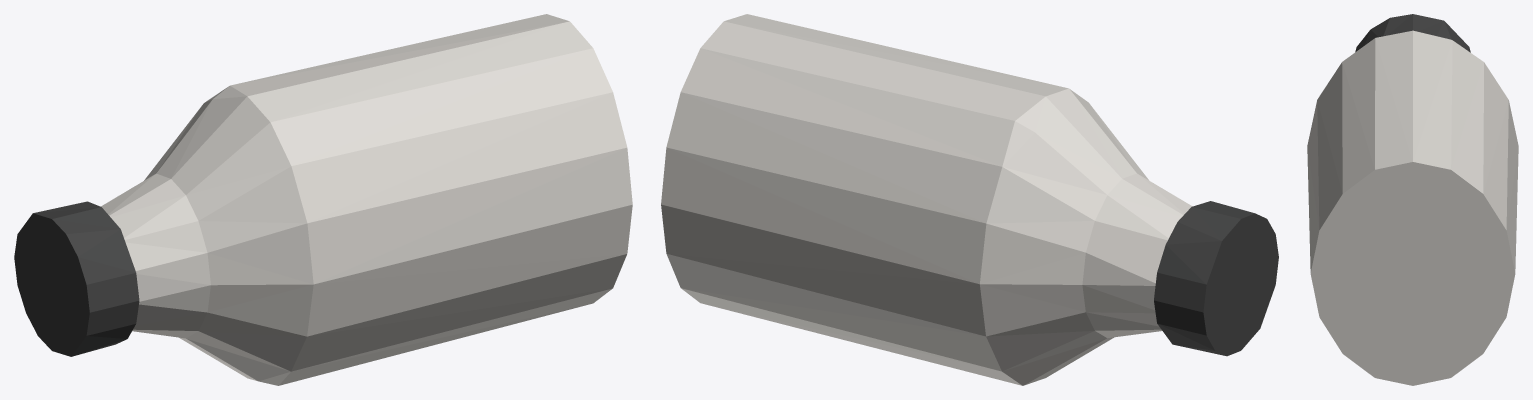
Rendered from Model_Butelka_4.fbx.
3 renders of one model, left to right at view 1: azimuth 30°, elevation 25°; view 2: azimuth 150°, elevation 25°; view 3: azimuth 270°, elevation 25°, orthographic. The views are drawn at different scales.
Parts seen in each view (by area): view 1: Mesh_Butelka_4; view 2: Mesh_Butelka_4; view 3: Mesh_Butelka_4.
Boxes of the visible parts, x1,y1,x2,y2 form: Mesh_Butelka_4: (14, 14, 632, 385); Mesh_Butelka_4: (661, 14, 1278, 385); Mesh_Butelka_4: (1307, 14, 1518, 385).
Bounding box in the file's own units: 8.27 × 9.92 × 19.08.
